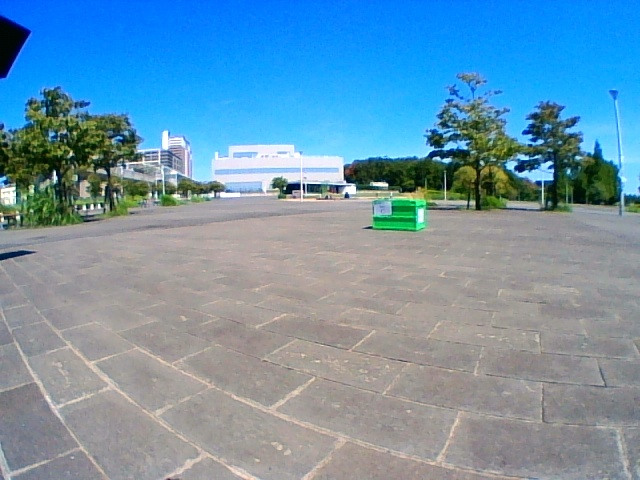green_box: (373, 199, 425, 230)
tag: (374, 203, 390, 215)
